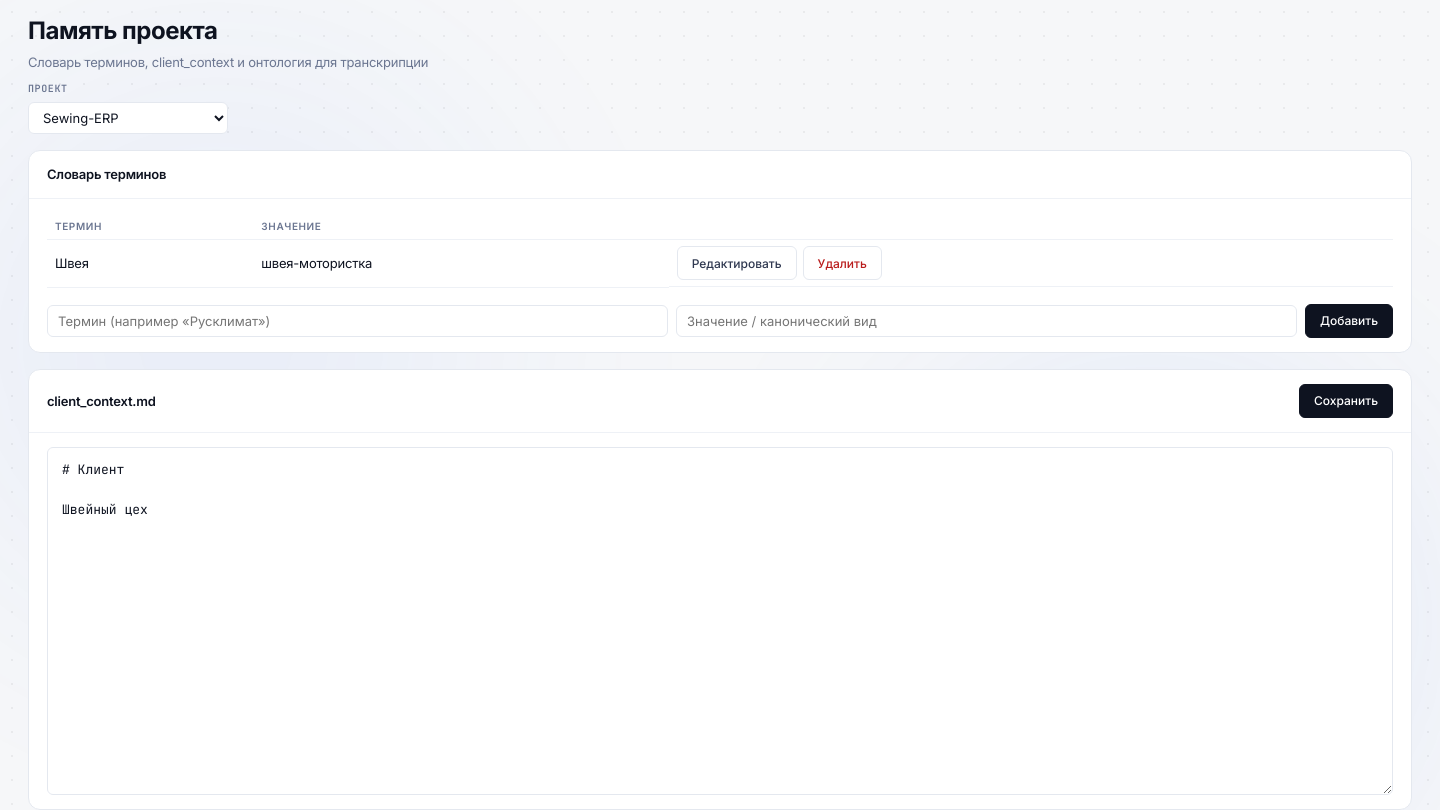
Scenario: ProjectMemoryView — dictionary › deletes a term
Expected: the text "Швея" is shown, [47,240,253,288]
Click the button "Удалить": (842, 264) [803,246,882,280]
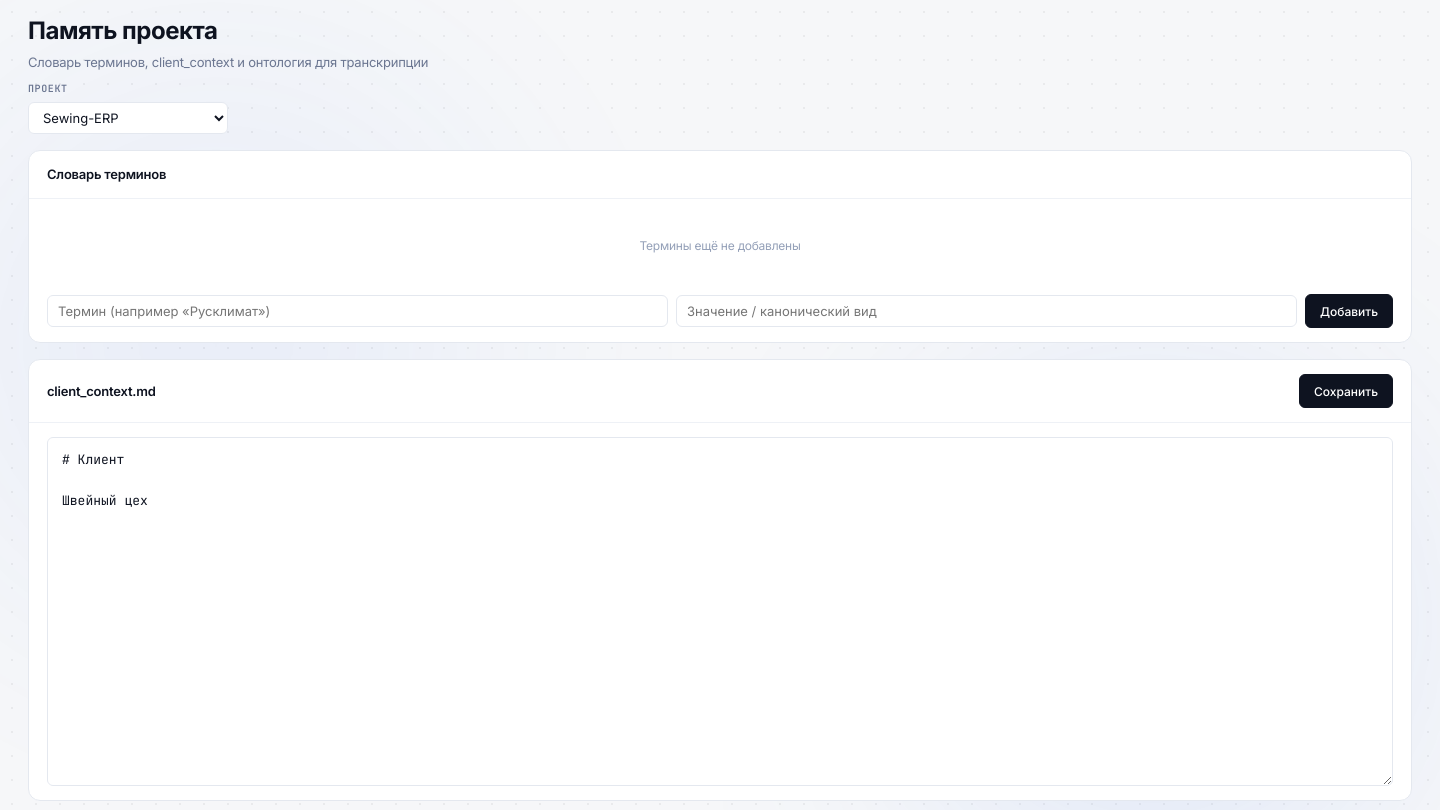
Now the text "Термины ещё не добавлены" is shown, box [639,238,801,253]
